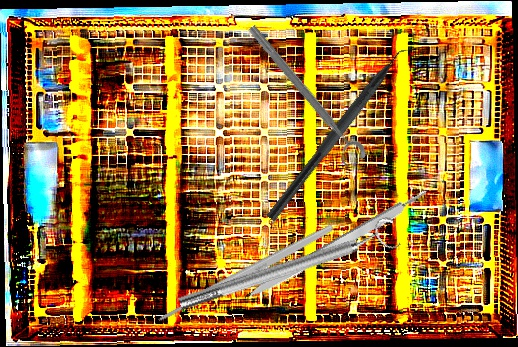Chopper: (265, 31, 426, 232)
Fixation Ring: (174, 214, 402, 320), (236, 21, 370, 172)
Scalpel Handle: (241, 186, 434, 306), (155, 222, 336, 325)
